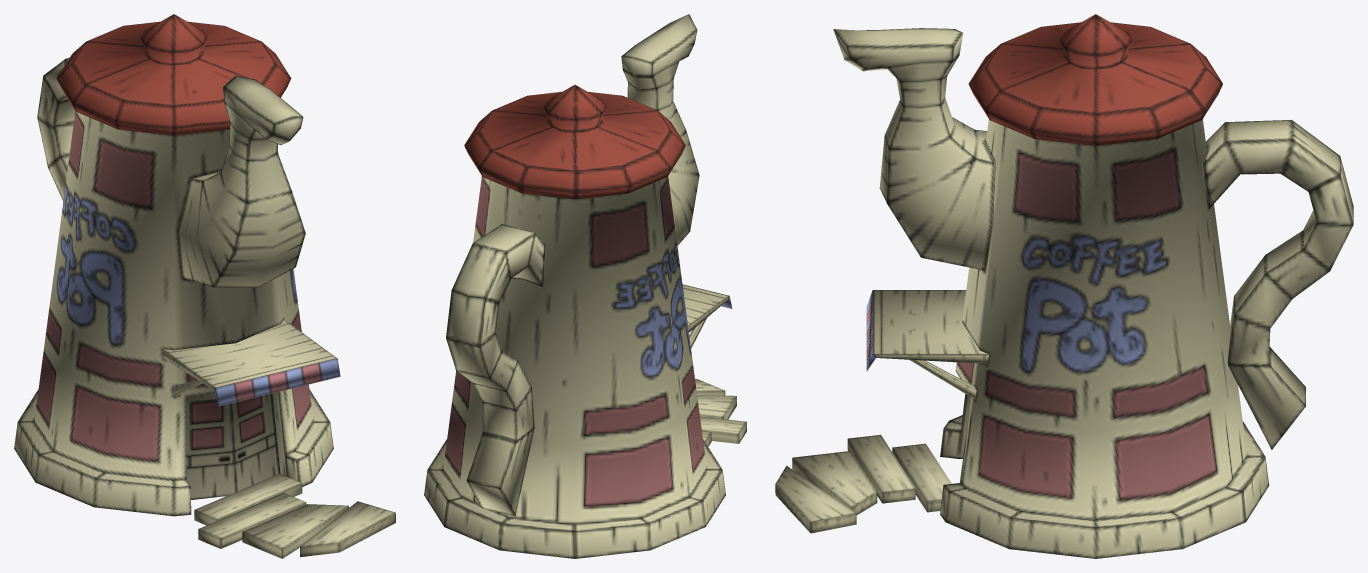
The model's file is jianzhu_6_1.FBX.
3 views of the same model, side by side, from view 1: azimuth 30°, elevation 25°; view 2: azimuth 150°, elevation 25°; view 3: azimuth 270°, elevation 25° (orthographic). The views are drawn at different scales.
Visible parts, largest first — view 1: default012; view 2: default012; view 3: default012.
Part boxes in pixels (x1,y1,x2,y2): default012: (14,14,395,558); default012: (424,14,746,558); default012: (775,14,1353,558).
Size of the model in its own units: 377 by 565 by 628.
